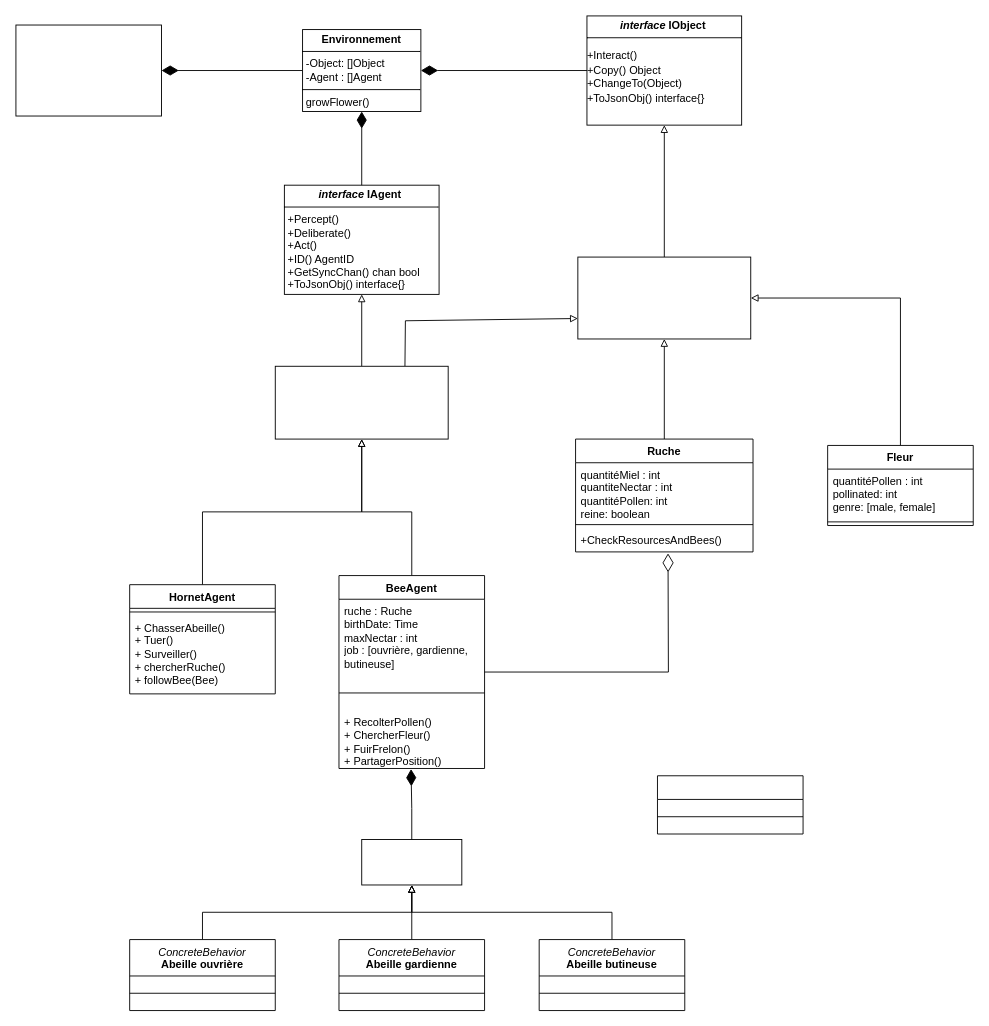
This 989x1026 diagram has some shape labels left out. The centre of each missing label's shape, as x and y in pixels:
"<<Abstract>> Agent vitesse : int" belongs at [361,402].
"<<Abstract>> Object position : {X,Y}" belongs at [664,297].
"Colonie" belongs at [730,804].
"Simulation + Env : environnement + Run() + Log() + Print()" belongs at [88,70].
"«interface» BeeBehavior" belongs at [411,862].
